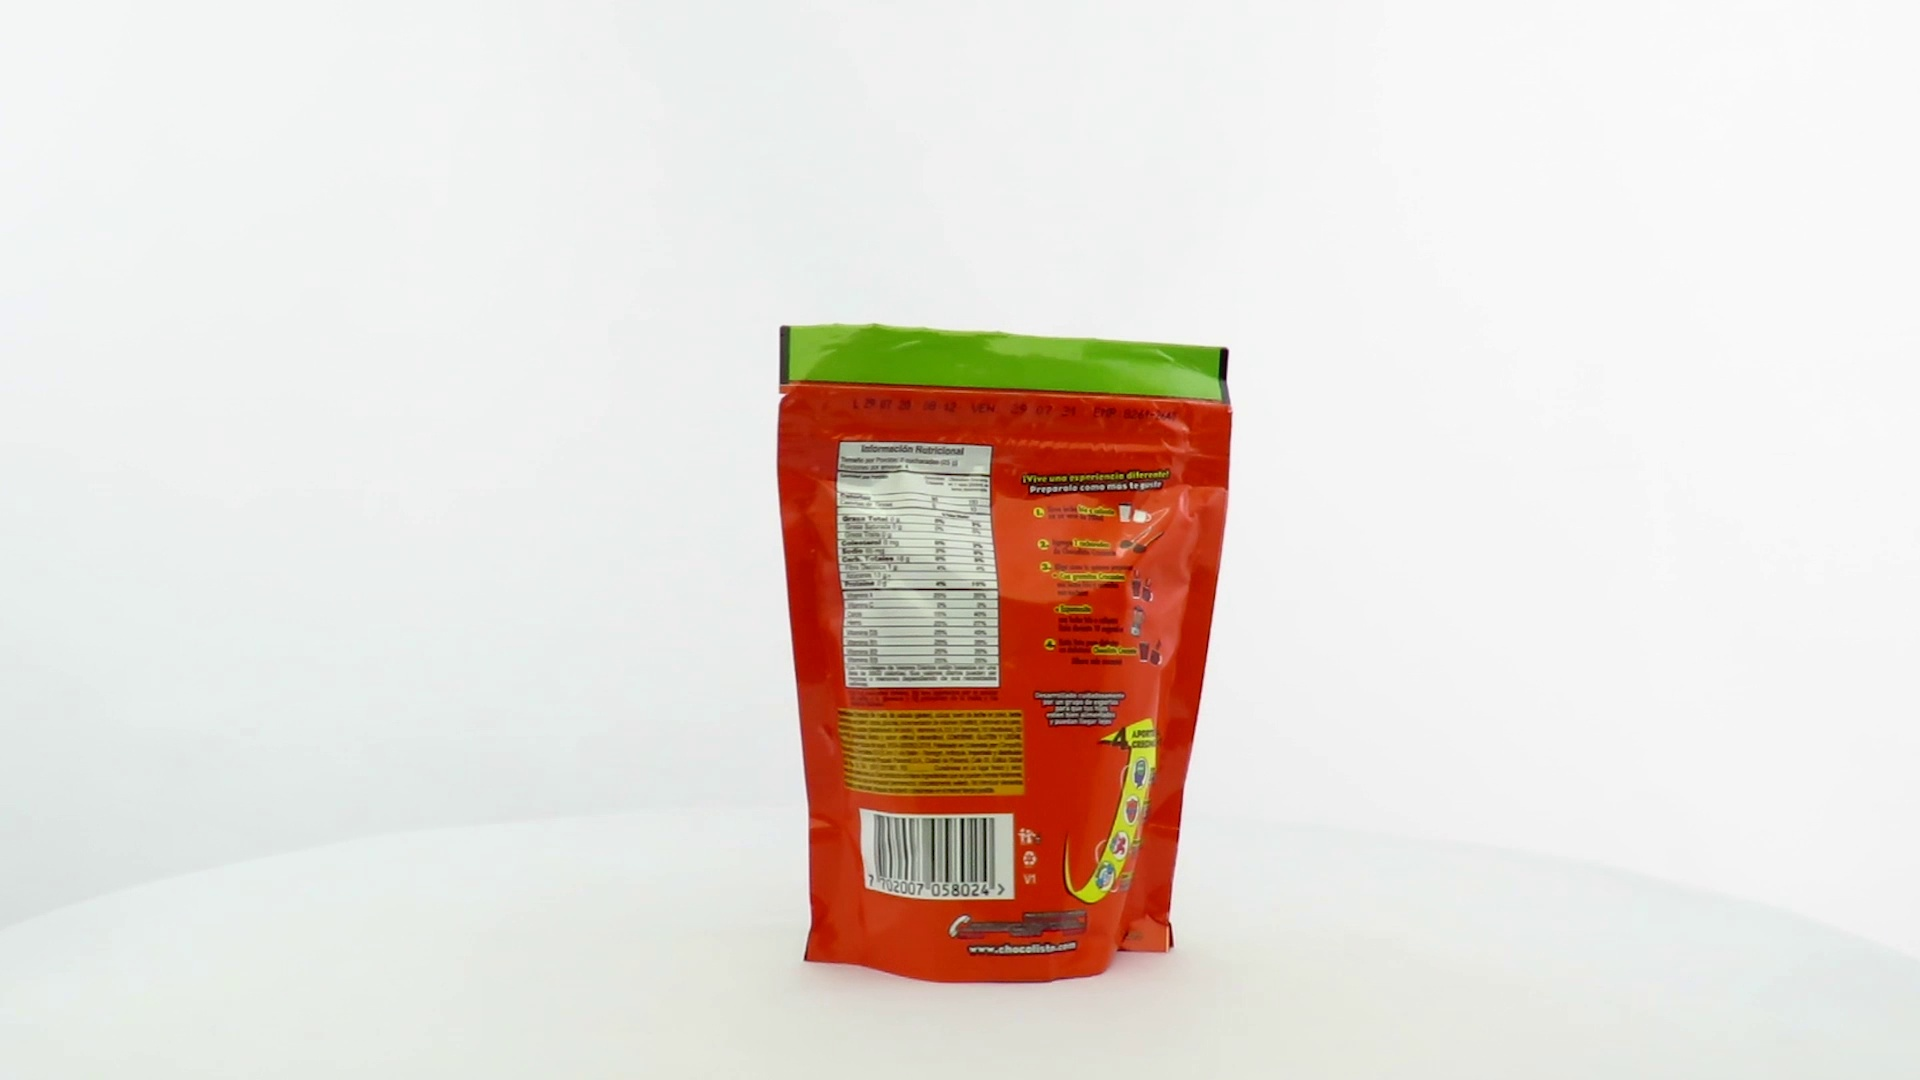COL0170102DYP10000: (771, 318, 1240, 990)
